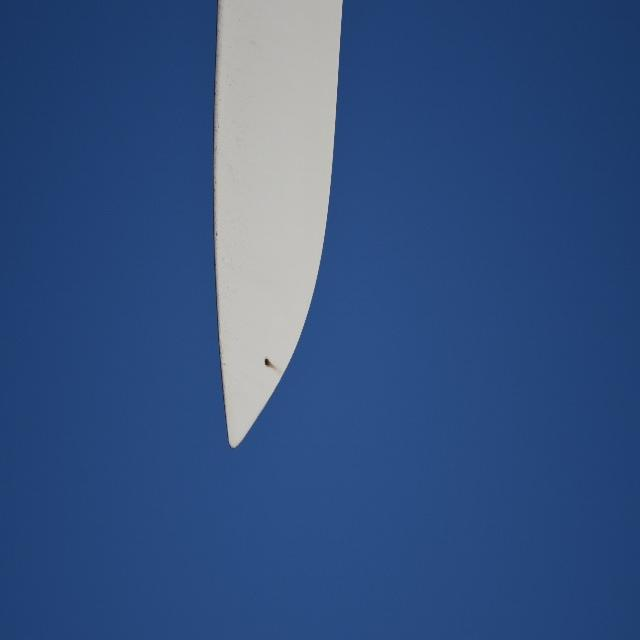Burn Mark: (264, 356, 276, 371)
